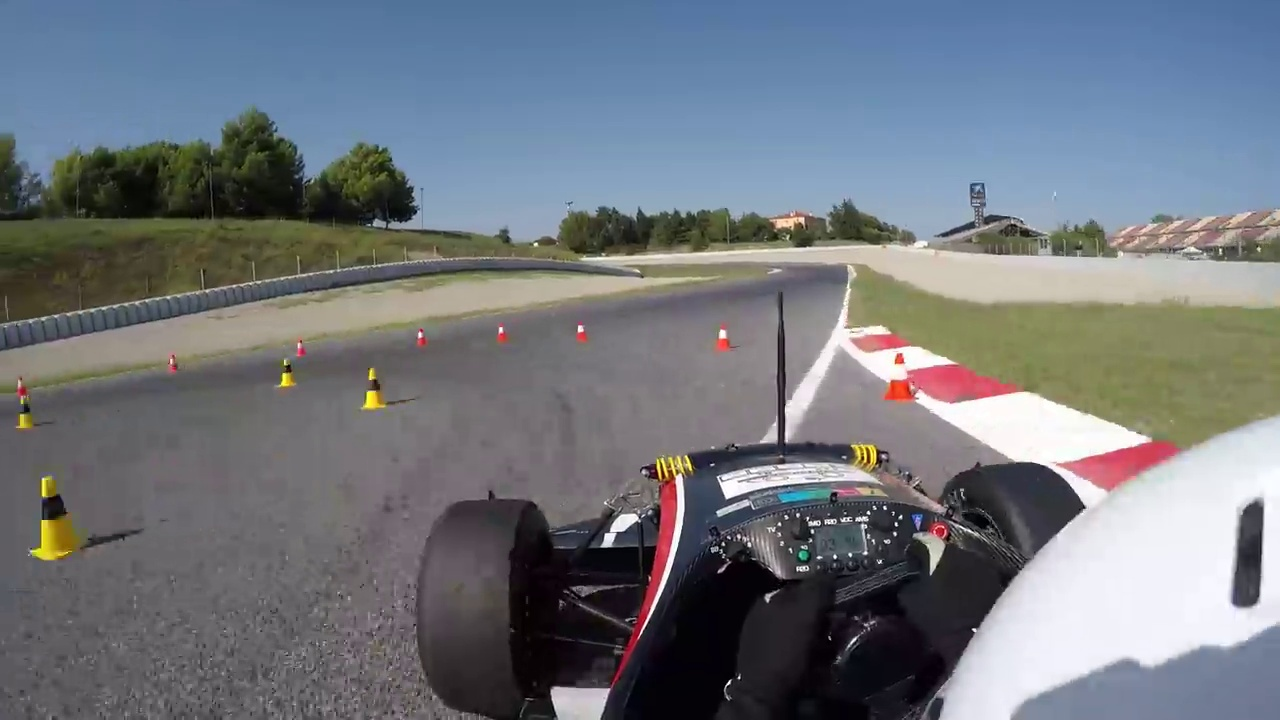Cone: (31, 475, 79, 559), (884, 352, 917, 403), (362, 367, 388, 411), (16, 394, 39, 431), (276, 358, 299, 389)
